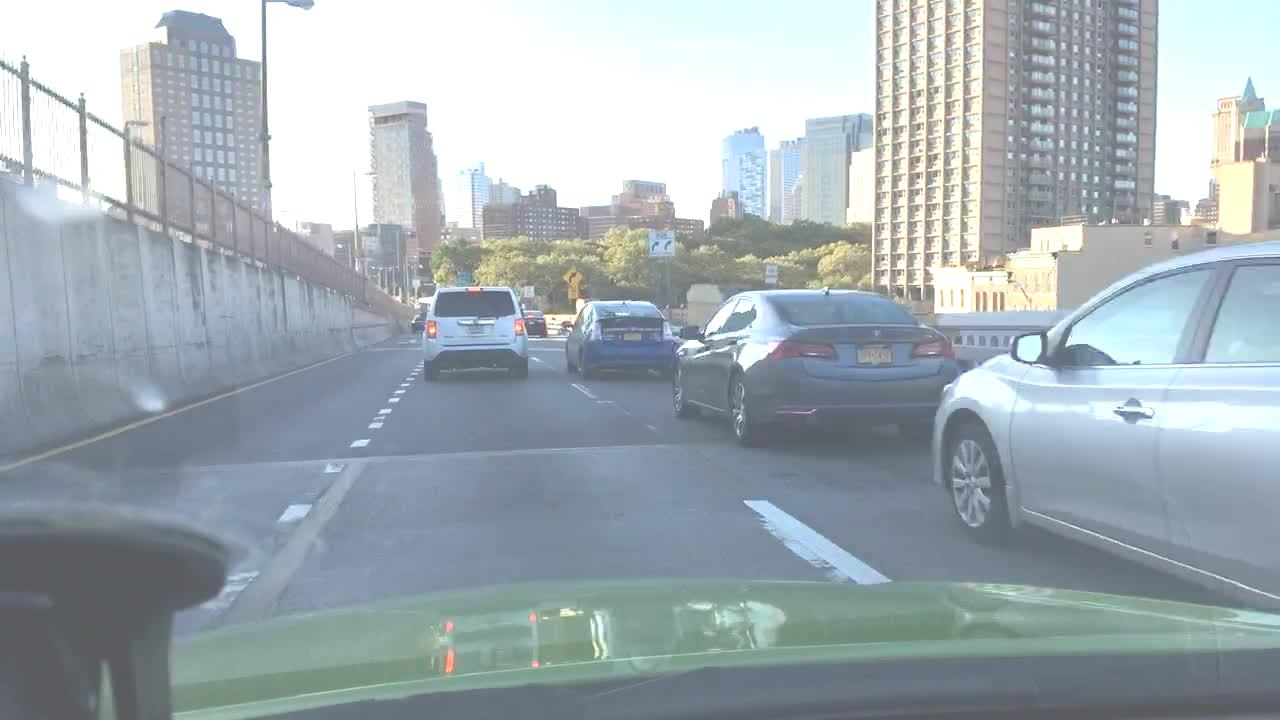bmw: (870, 328, 884, 342)
